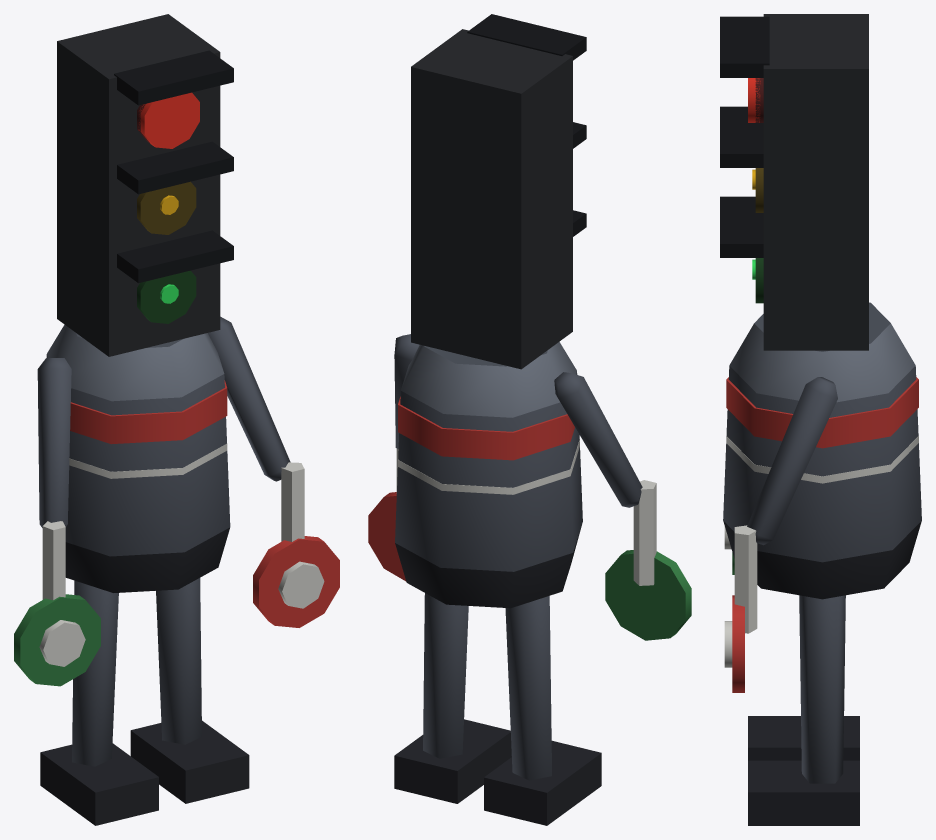
Rendered from e_maschinen_ampelwaechter.glb.
The picture shows the model from 3 angles, left to right: view 1: azimuth 30°, elevation 25°; view 2: azimuth 150°, elevation 25°; view 3: azimuth 270°, elevation 25°; orthographic projection. The views are drawn at different scales.
Visible parts, largest first — view 1: body; view 2: body; view 3: body.
Part boxes in pixels (x1,y1,x2,y2): body: [14, 14, 339, 825]; body: [368, 14, 691, 825]; body: [720, 14, 921, 825].
Bounding box in the file's own units: 1.2 × 2.66 × 0.65.
